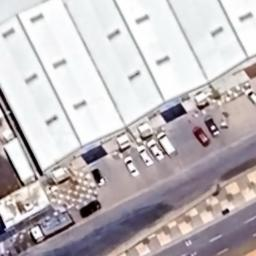sedan: (146, 138, 170, 160), (190, 125, 212, 148), (122, 154, 142, 176), (134, 145, 152, 167), (243, 86, 256, 107)
unknown: (28, 210, 77, 244), (74, 198, 102, 219), (89, 166, 110, 188), (202, 114, 220, 138)
van: (152, 128, 179, 159)
